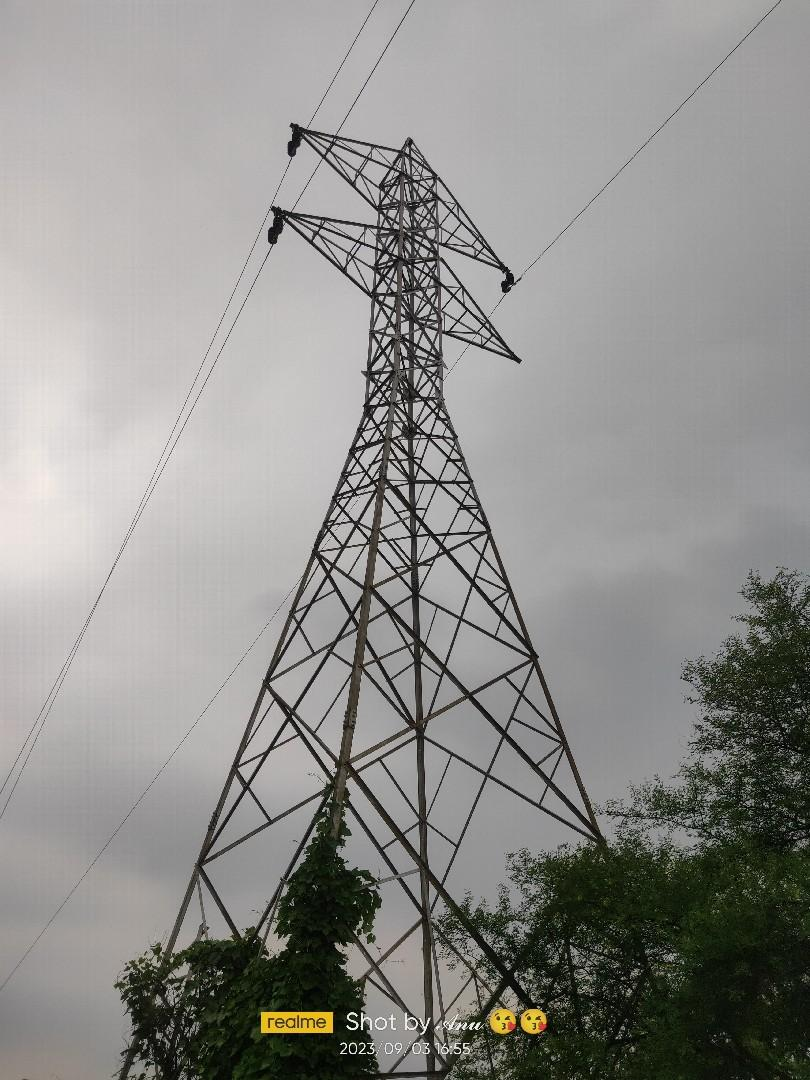GSM Antenna: (168, 115, 608, 909)
